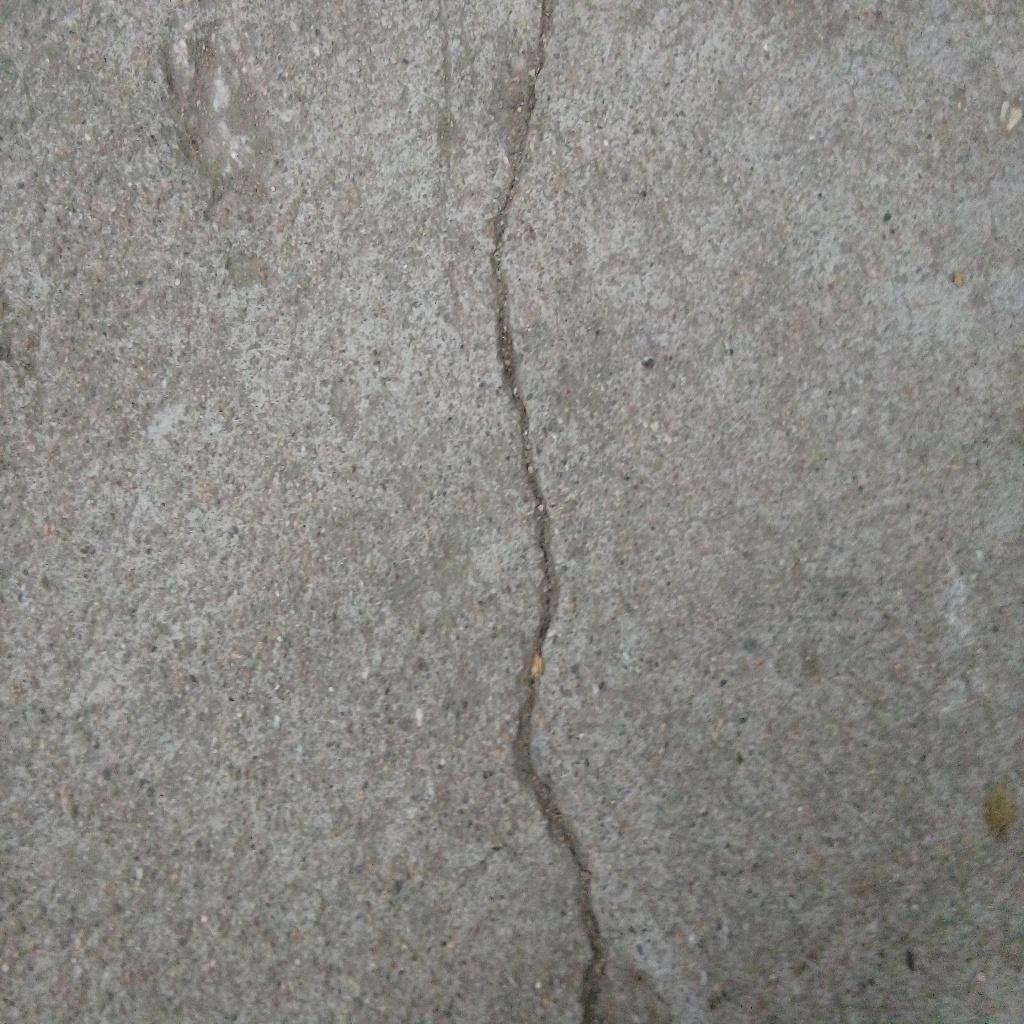Crack: (488, 1, 606, 1024)
